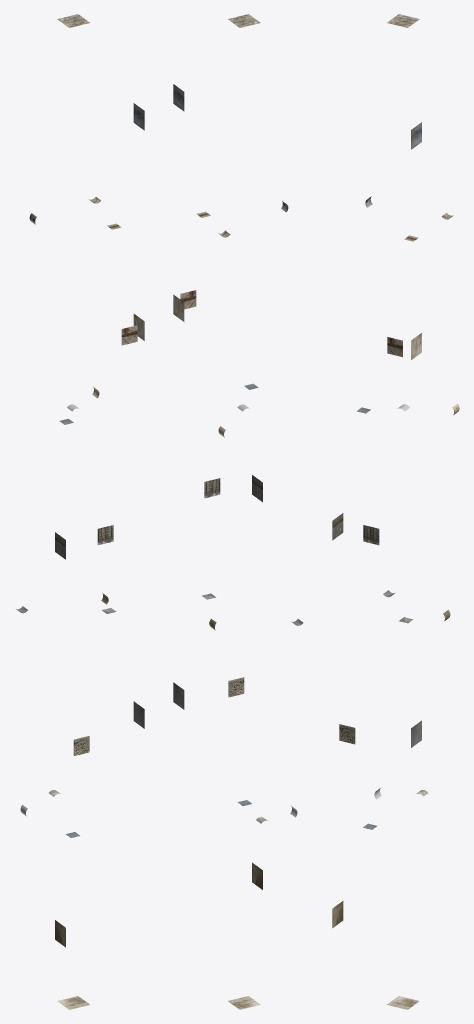
The model's file is defects.obj.
3 views of the same model, side by side, from view 1: azimuth 30°, elevation 25°; view 2: azimuth 210°, elevation 25°; view 3: azimuth 330°, elevation 25° (orthographic).
Bounding box in the file's own units: 7.43 × 88.62 × 8.88.
